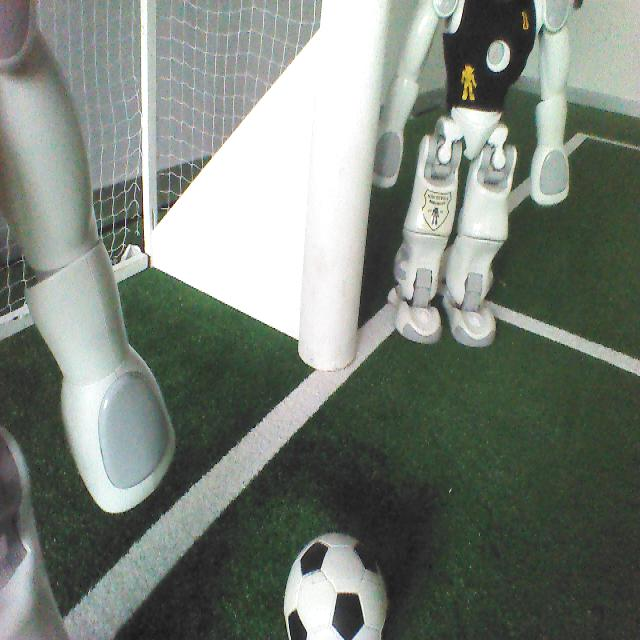ball: (285, 529, 388, 640)
goalpost: (295, 0, 390, 360)
